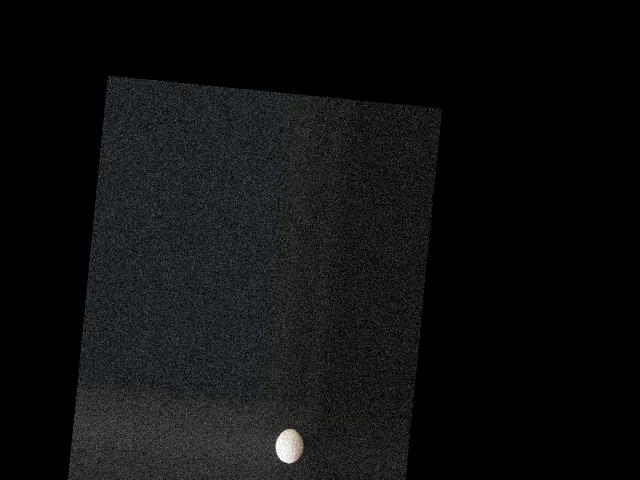egg: (274, 427, 305, 463)
